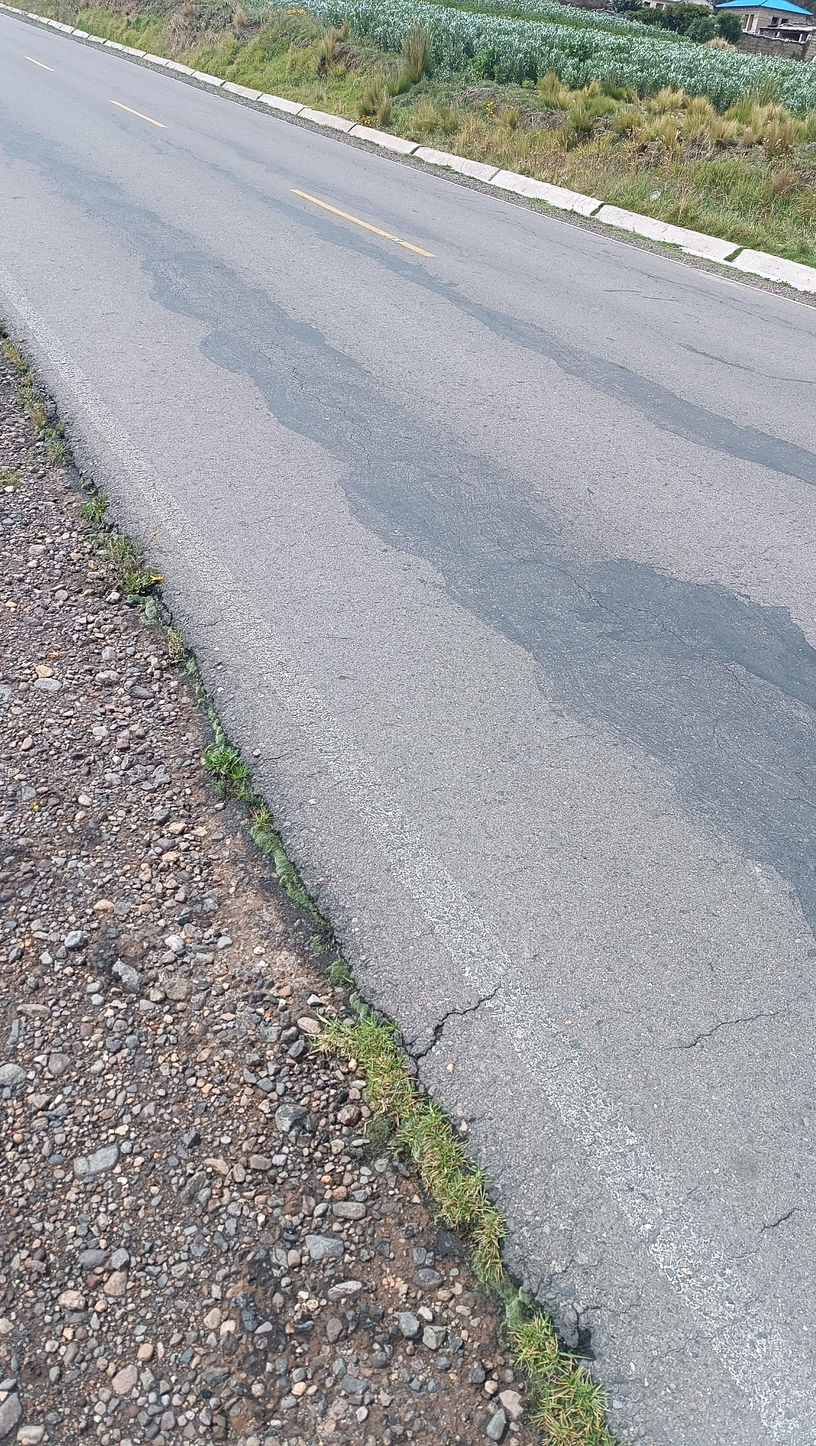GRIETA: (414, 986, 502, 1060), (666, 1009, 784, 1050)
PARCHE: (274, 365, 816, 930), (525, 329, 816, 485)
